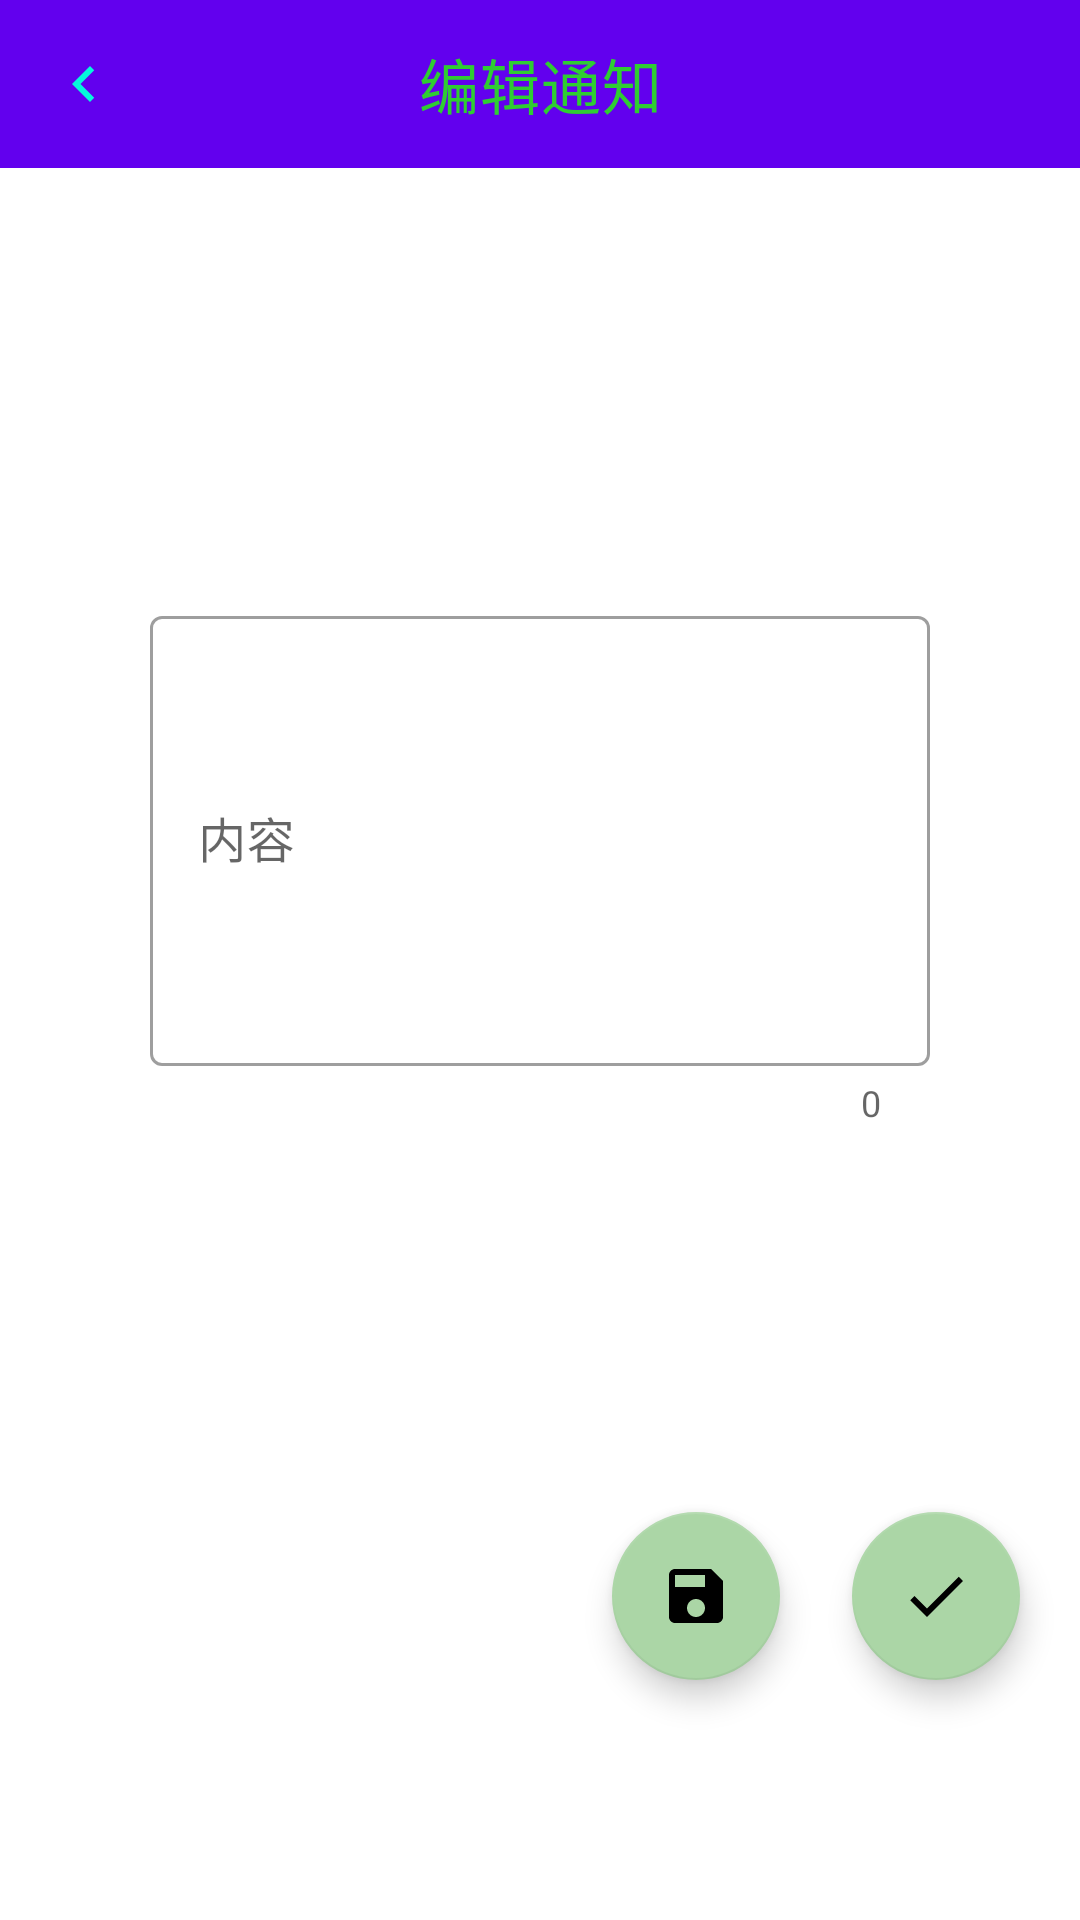

Where to tap for icons on this 1080px×1920px app screen, as point (x, y):
check: point (936, 1596)
save: point (696, 1596)
